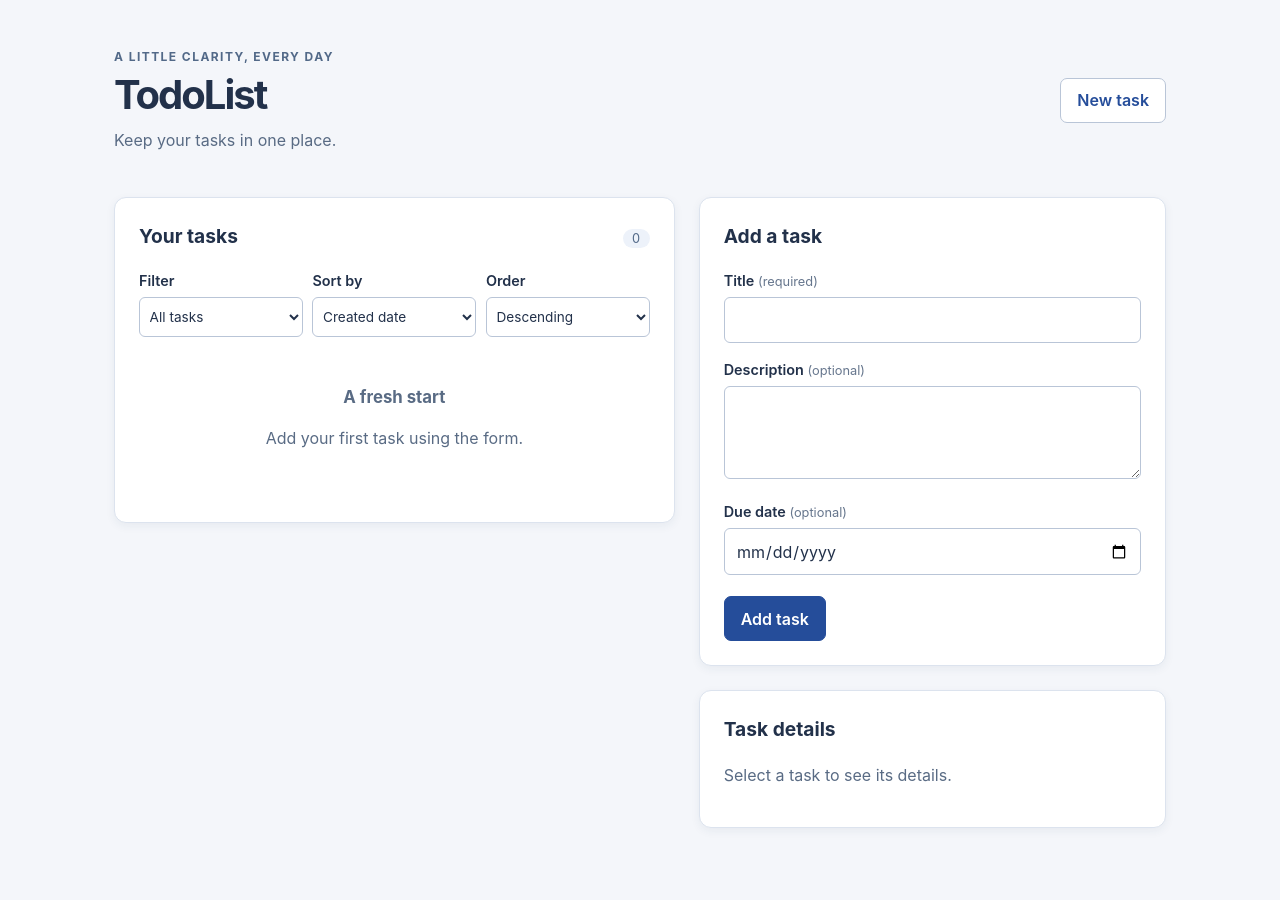
Test: task workflow › retains a successful create when its list refresh fails and retries only the read
Expected: the heading "A fresh start" is shown, x1=343 y1=387 x2=445 y2=407
Type "Created once" into the field labelled "Title (required)".
click(932, 320); type("Created once")  # box x1=724 y1=297 x2=1141 y2=343
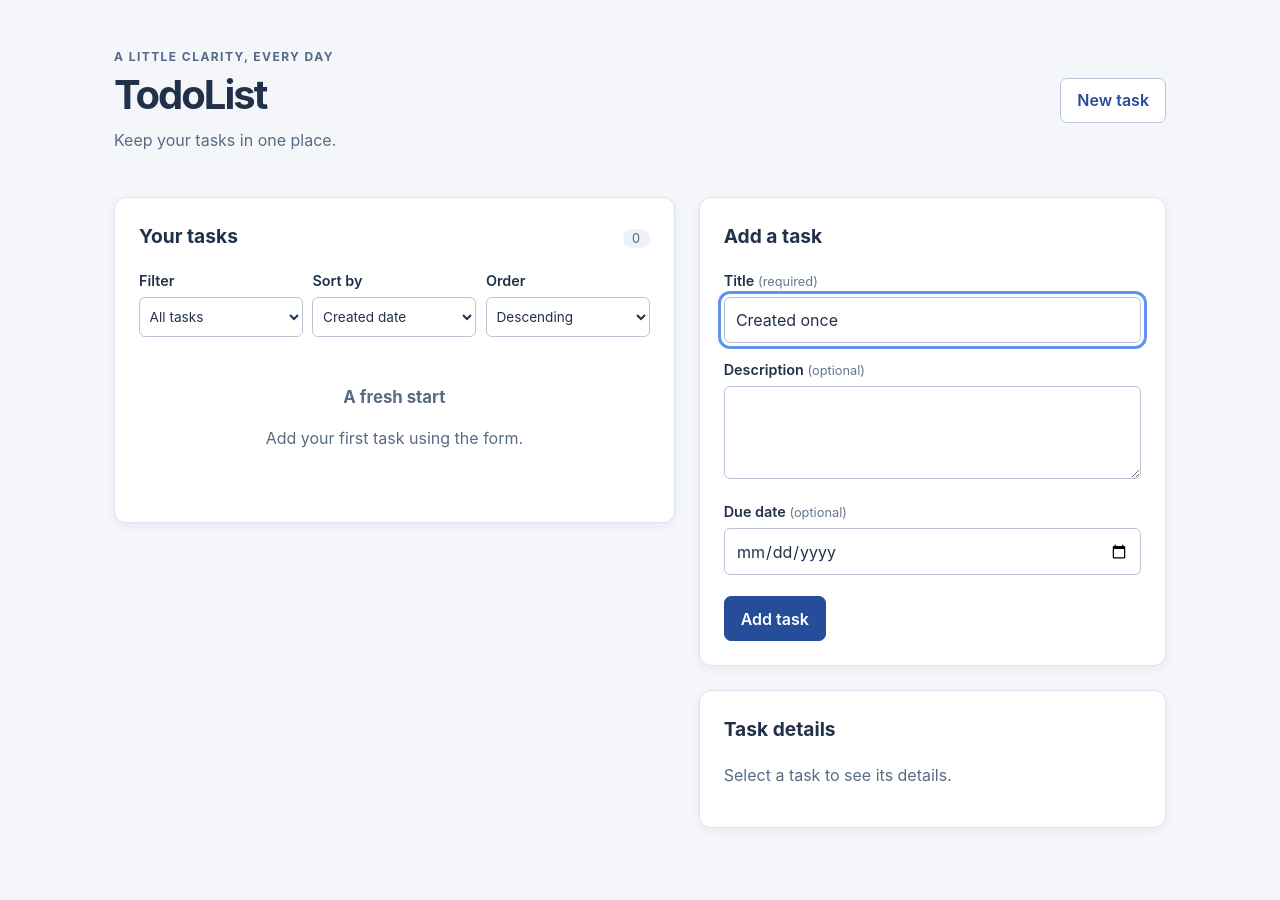
Click the button "Add task".
click(775, 619)  # box x1=724 y1=596 x2=826 y2=641
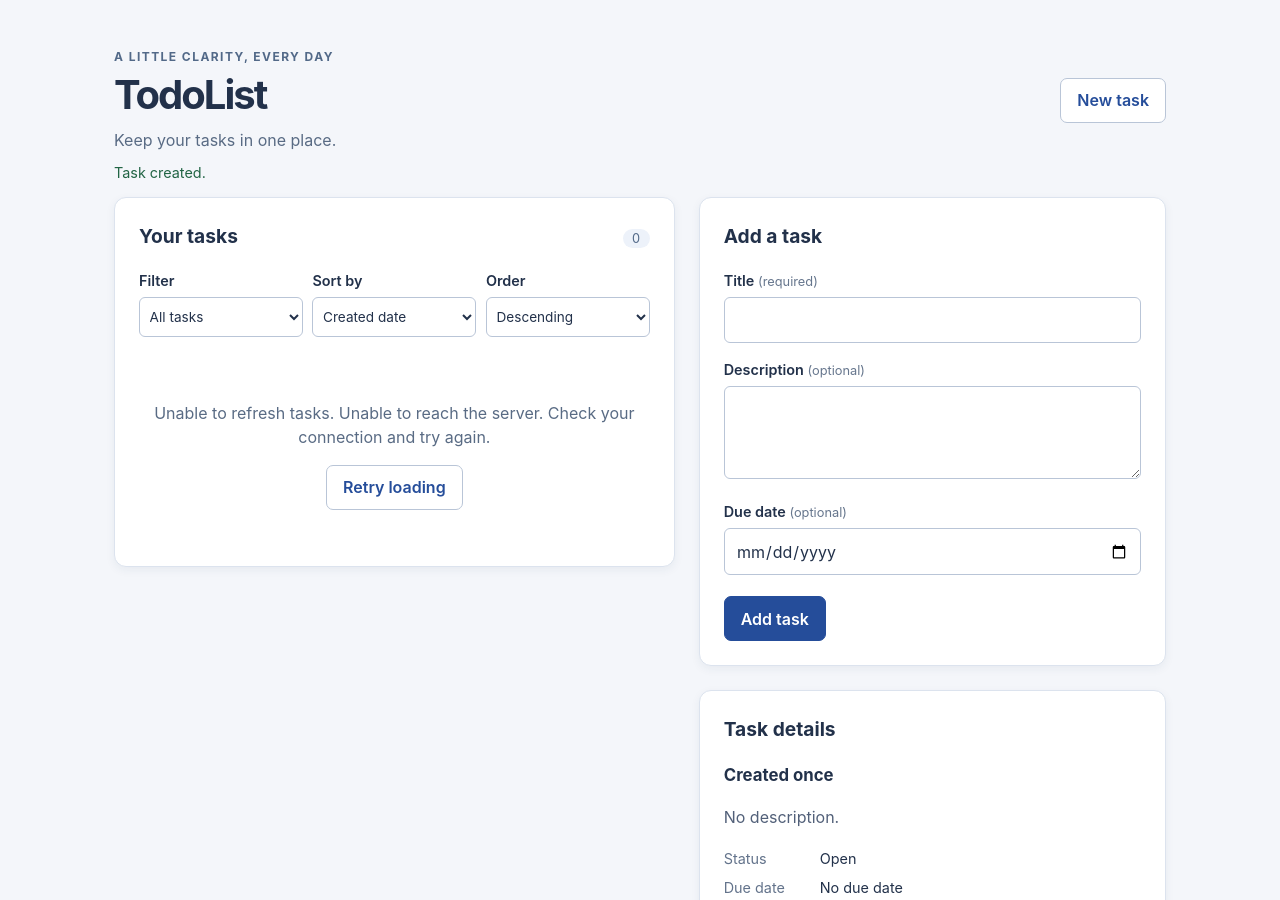
Expected: the message shows "Unable to refresh tasks", x1=154 y1=403 x2=634 y2=447
Expected: the text "Task created." is shown, x1=114 y1=164 x2=206 y2=181
Expected: the field labelled "Title (required)" is empty, x1=724 y1=297 x2=1141 y2=343
Click the button "Retry loading".
click(394, 487)  # box x1=326 y1=465 x2=463 y2=510
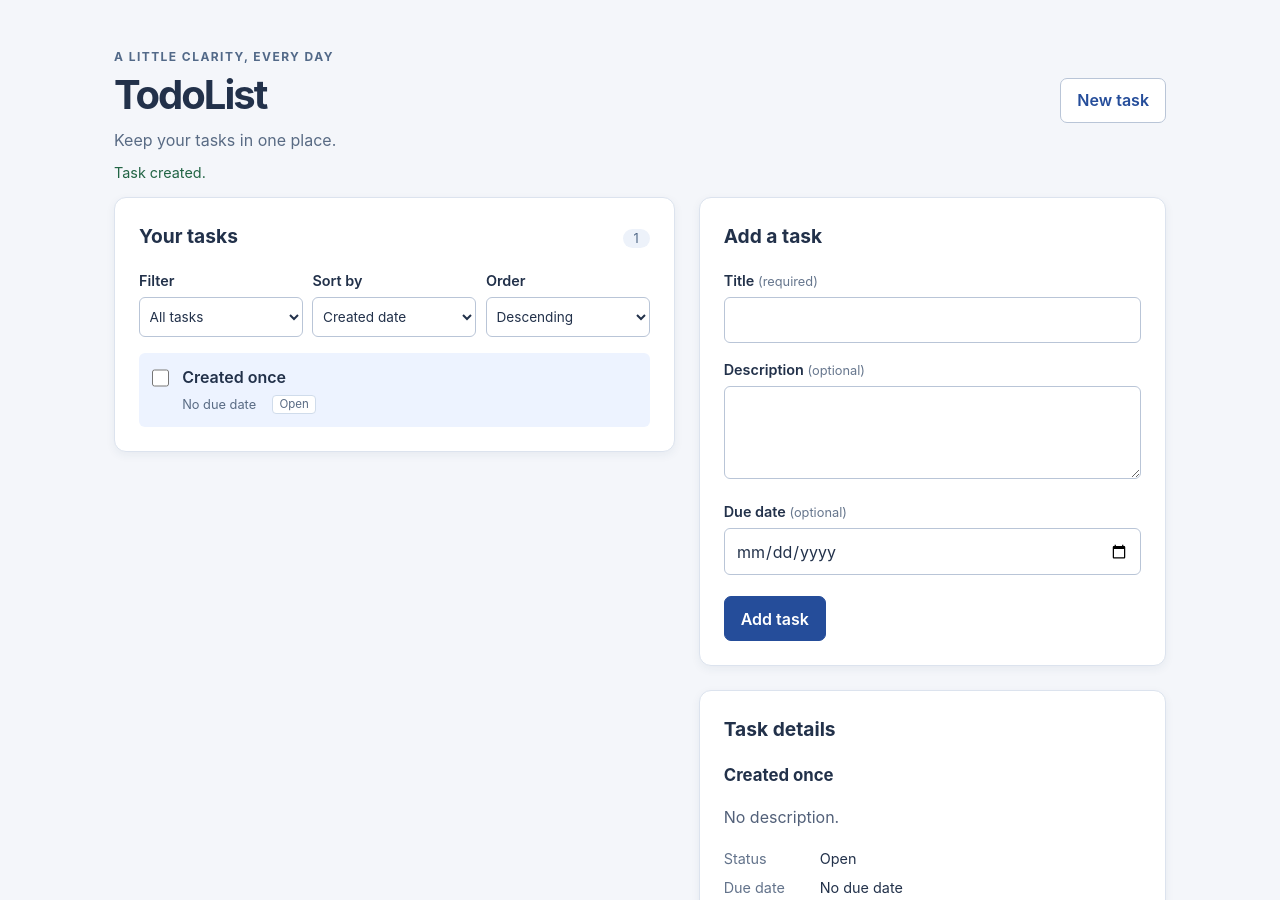
Expected: the checkbox named "Mark Created once complete" is shown, x1=152 y1=369 x2=169 y2=387
Expected: the message is gone
